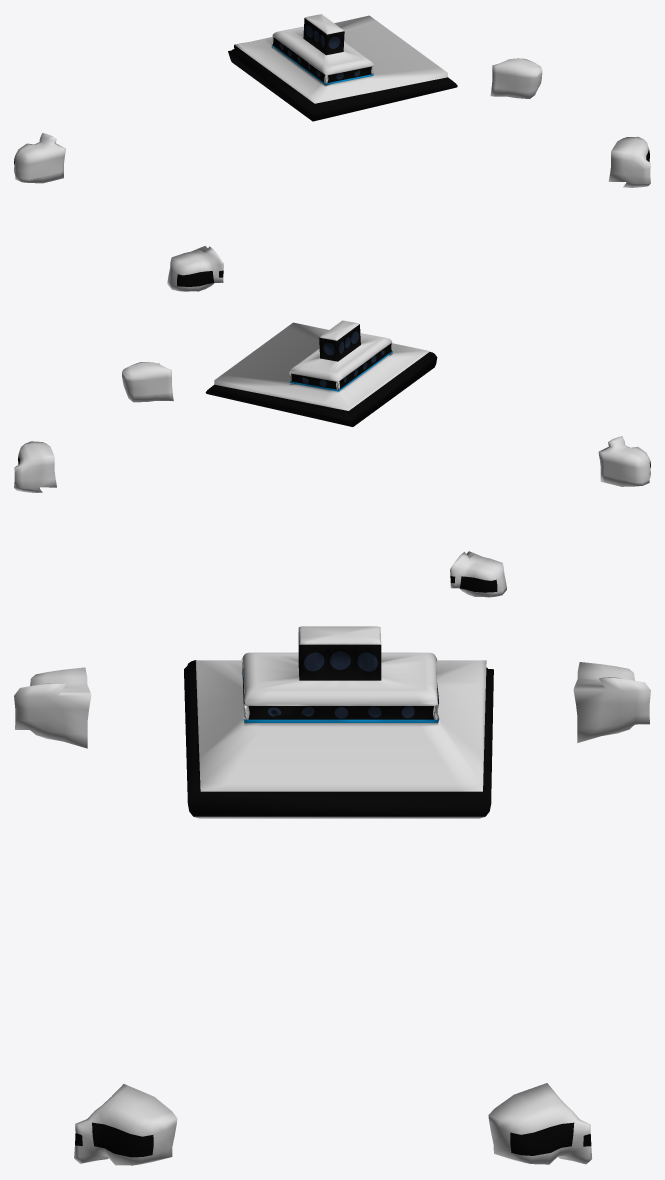
File: autonomous_sensors.fbx
The picture shows the model from 3 angles, top to bottom: view 1: azimuth 30°, elevation 25°; view 2: azimuth 150°, elevation 25°; view 3: azimuth 270°, elevation 25°; orthographic projection. The views are drawn at different scales.
Visible parts, largest first — view 1: Sensors, Side Sensor 1, Side Sensor 2, Side Sensor 3, Side Sensor 4; view 2: Sensors, Side Sensor 2, Side Sensor 1, Side Sensor 4, Side Sensor 3; view 3: Sensors, Side Sensor 4, Side Sensor 3, Side Sensor 2, Side Sensor 1.
Part boxes in pixels (bbox=[...]): Sensors: bbox=[228, 14, 457, 121]; Side Sensor 1: bbox=[167, 246, 223, 291]; Side Sensor 2: bbox=[14, 133, 65, 183]; Side Sensor 3: bbox=[608, 136, 650, 187]; Side Sensor 4: bbox=[490, 58, 542, 98]; Sensors: bbox=[205, 320, 437, 427]; Side Sensor 2: bbox=[450, 551, 506, 597]; Side Sensor 1: bbox=[598, 436, 650, 486]; Side Sensor 4: bbox=[14, 441, 56, 492]; Side Sensor 3: bbox=[122, 362, 173, 402]; Sensors: bbox=[184, 626, 493, 818]; Side Sensor 4: bbox=[488, 1083, 592, 1164]; Side Sensor 3: bbox=[74, 1084, 177, 1165]; Side Sensor 2: bbox=[573, 662, 650, 742]; Side Sensor 1: bbox=[14, 667, 91, 748].
Size of the model in its own units: 362 by 120 by 220.
